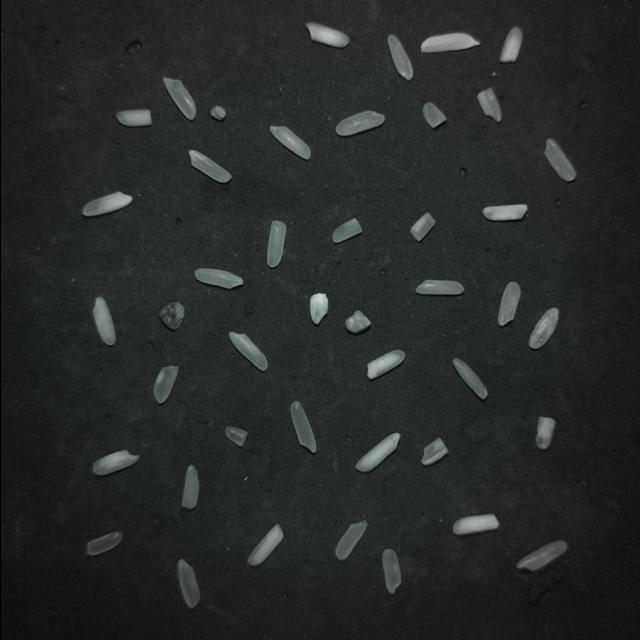broken: (153, 365, 178, 402), (86, 531, 121, 554), (477, 87, 500, 121), (408, 212, 434, 242), (181, 464, 198, 508), (421, 437, 447, 464), (332, 218, 361, 242), (422, 101, 445, 127), (116, 108, 151, 125), (224, 426, 246, 445)
chalky: (355, 432, 399, 470), (228, 331, 266, 370), (247, 523, 282, 564), (269, 125, 310, 159), (528, 307, 558, 348), (82, 191, 132, 215), (92, 296, 115, 344), (177, 558, 199, 607), (305, 22, 348, 47), (452, 513, 498, 534), (499, 26, 521, 62), (482, 203, 526, 220), (535, 416, 555, 448), (309, 293, 327, 323)
foreign: (420, 32, 478, 51), (159, 301, 183, 329), (344, 310, 370, 332), (210, 105, 225, 120)
whole: (516, 540, 566, 570), (162, 77, 195, 119), (452, 358, 486, 398), (188, 150, 230, 182), (544, 138, 575, 180), (290, 400, 315, 452), (334, 520, 366, 559), (335, 110, 383, 135), (92, 449, 138, 474), (387, 35, 412, 80), (367, 349, 404, 379), (497, 281, 520, 325), (266, 220, 286, 268), (194, 268, 242, 288), (381, 548, 400, 592), (416, 280, 463, 294)
